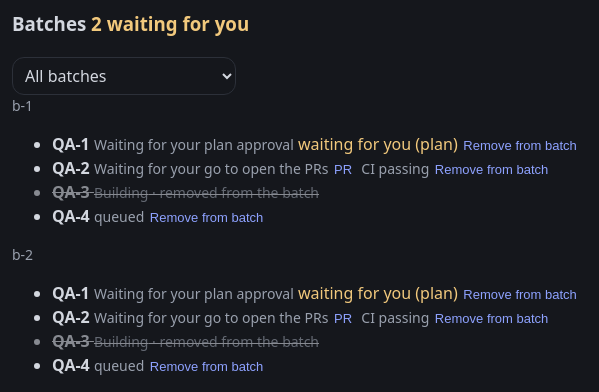
it: BatchOverview › filters by batch and removes a run from its batch
Later steps or results of the test are not shown.
Select "b-2" in the dropdown named "Batch": (124, 76) [12,56,236,95]
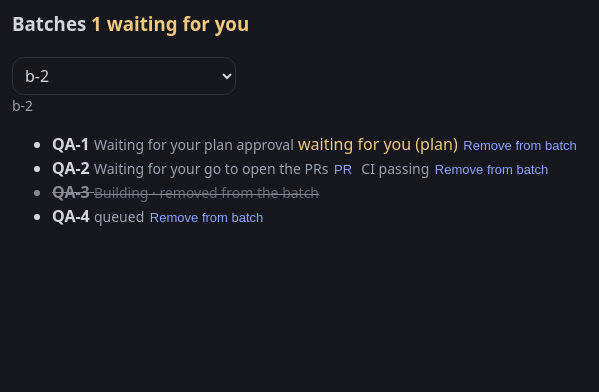
Expected: the element with test id "batch-b-2" is shown, [12,96,582,227]
Expected: the element with test id "batch-b-1" is gone
